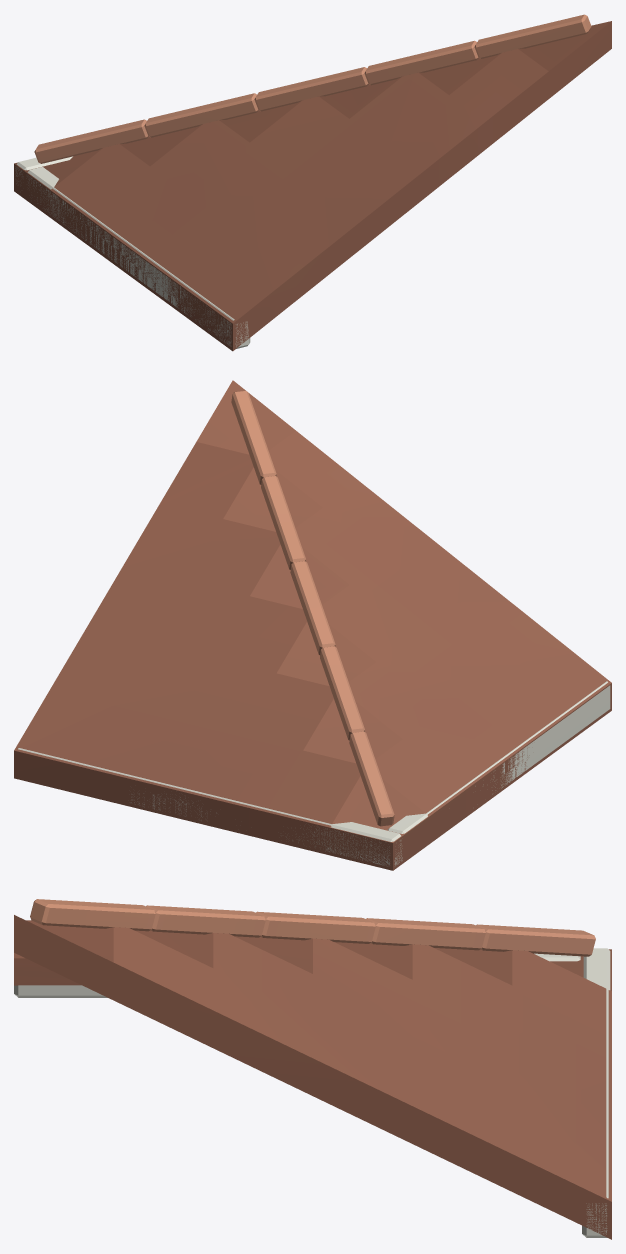
The model's file is Kit_RoofCorner.glb.
The picture shows the model from 3 angles, top to bottom: view 1: azimuth 30°, elevation 25°; view 2: azimuth 150°, elevation 25°; view 3: azimuth 270°, elevation 25°; orthographic projection. The views are drawn at different scales.
Visible parts, largest first — view 1: Warm terracotta roof tiles, Sunlit clay tile edges, Carved pale limestone; view 2: Warm terracotta roof tiles, Sunlit clay tile edges, Carved pale limestone; view 3: Warm terracotta roof tiles, Sunlit clay tile edges, Carved pale limestone.
Part boxes in pixels (x1,y1,x2,y2): Warm terracotta roof tiles: [14, 21, 611, 351]; Sunlit clay tile edges: [34, 14, 591, 163]; Carved pale limestone: [15, 156, 250, 348]; Warm terracotta roof tiles: [14, 380, 611, 870]; Sunlit clay tile edges: [231, 391, 394, 826]; Carved pale limestone: [18, 681, 610, 866]; Warm terracotta roof tiles: [14, 915, 611, 1239]; Sunlit clay tile edges: [30, 899, 595, 956]; Carved pale limestone: [14, 948, 610, 1237].
Bounding box in the file's own units: 2 × 1.2 × 2.
